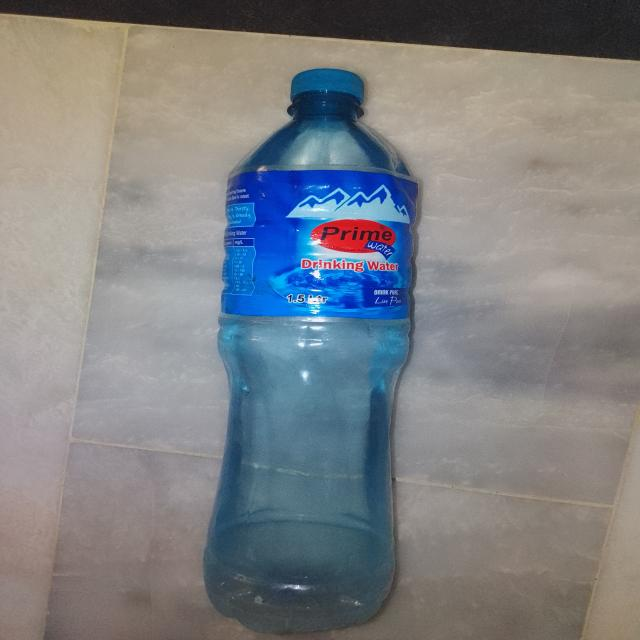bottle: (205, 60, 429, 634)
cap: (281, 64, 376, 112)
label: (220, 157, 416, 332)
